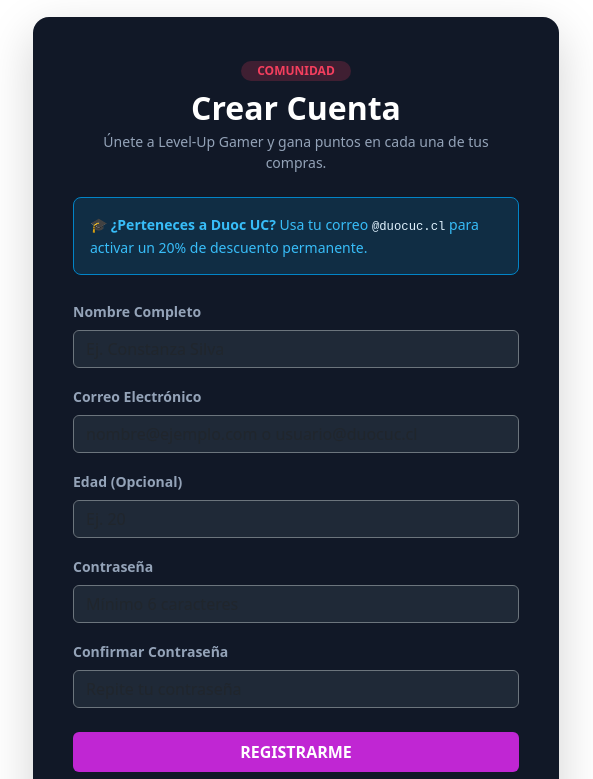
it: <Registrar /> › debe registrar exitosamente, mostrar mensaje y redirigir al login tras 1.5s
Note: Llenar el formulario correctamente
Type "Constanza Silva" into the field with placeholder "Ej. Constanza Silva" at x=296, y=349, box [73, 330, 519, 368]
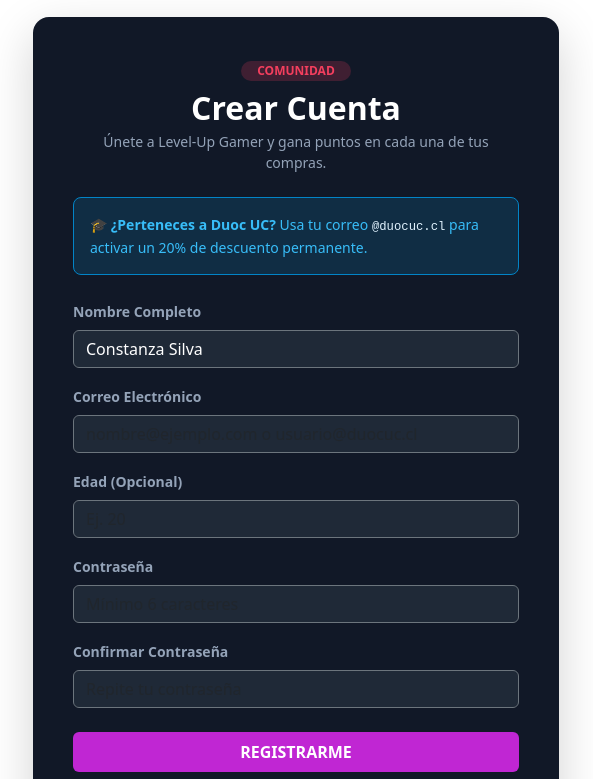
Type "constanza@duocuc.cl" into the field with placeholder "nombre@ejemplo.com o usuario@duocuc.cl" at x=296, y=434, box [73, 415, 519, 453]
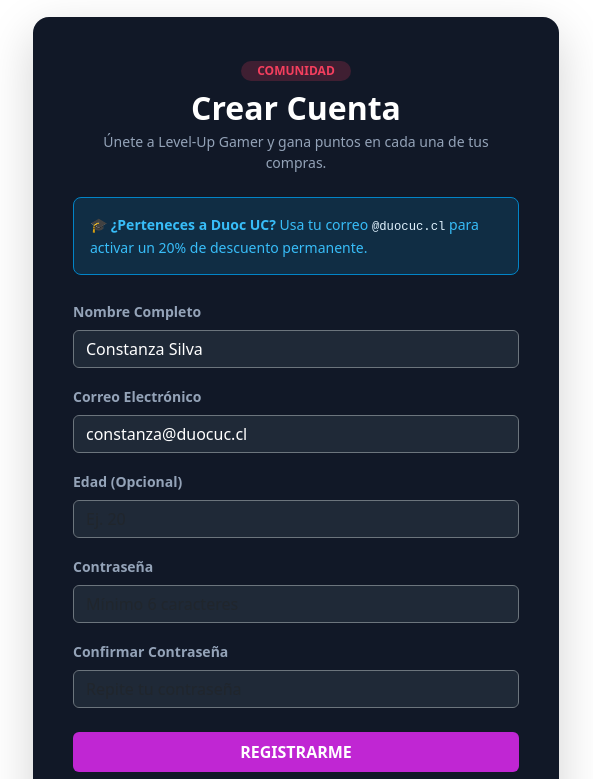
Type "123456" into the password field with placeholder "Mínimo 6 caracteres" at x=296, y=604, box [73, 585, 519, 623]
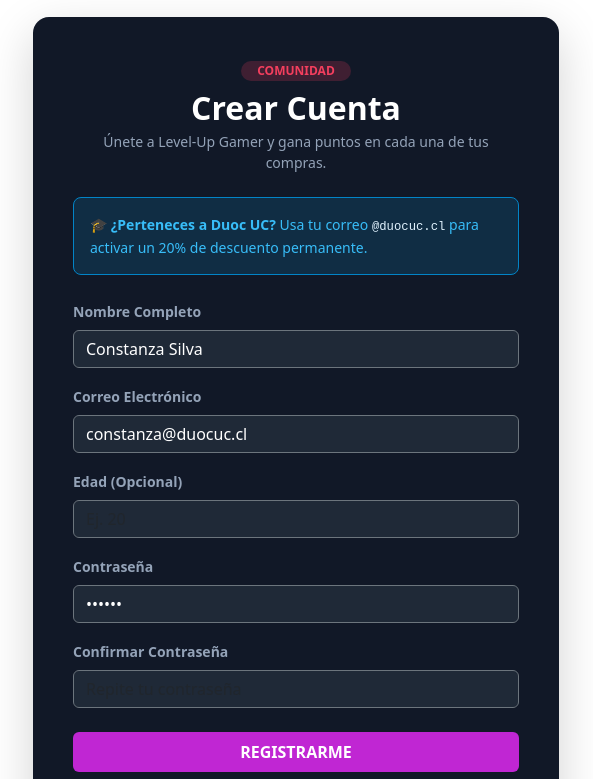
Type "123456" into the password field with placeholder "Repite tu contraseña" at x=296, y=689, box [73, 670, 519, 708]
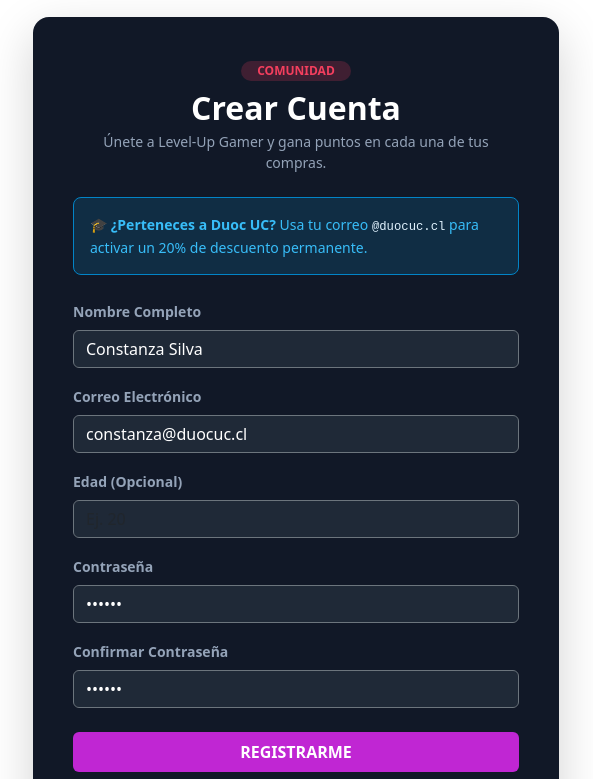
Click the button "Registrarme" at x=296, y=752, box [73, 732, 519, 772]
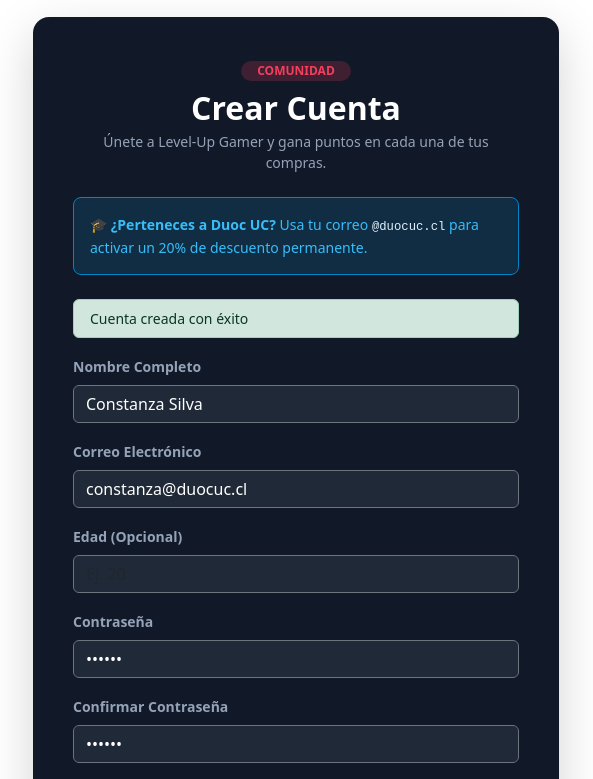
Check: the text "Cuenta creada con éxito" is shown, box [73, 299, 519, 338]
